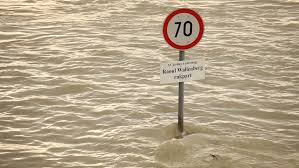Speed_limit_70km: (163, 8, 204, 49)
